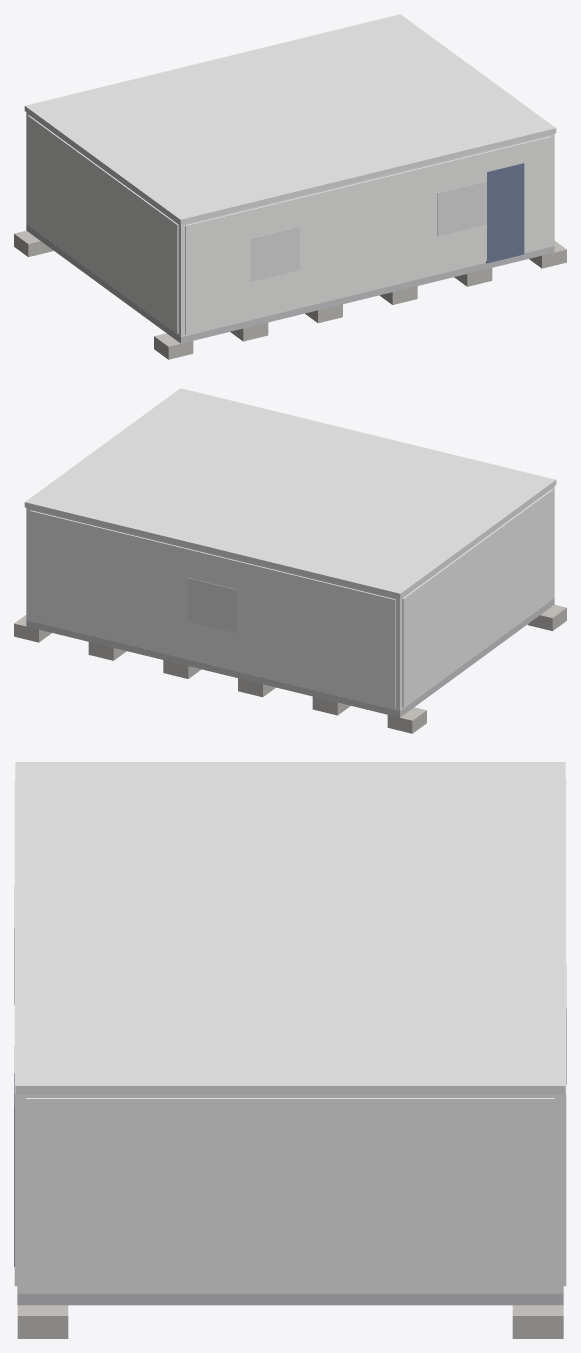
The model's file is Studio-30-SolarPrep-LOD2.glb.
3 renders of one model, top to bottom at view 1: azimuth 30°, elevation 25°; view 2: azimuth 150°, elevation 25°; view 3: azimuth 270°, elevation 25°, orthographic. The views are drawn at different scales.
Parts seen in each view (by area): view 1: RoofMain, ExteriorPanelsStandard, WindowsStandard, BaseFrame, FoundationBlocks, ExteriorShell, EntryDoor; view 2: RoofMain, ExteriorPanelsStandard, BaseFrame, ExteriorShell, FoundationBlocks, WindowsStandard; view 3: RoofMain, ExteriorPanelsStandard, BaseFrame, ExteriorShell, FoundationBlocks.
Part boxes in pixels (x1,y1,x2,y2): RoofMain: (24,14,556,224); ExteriorPanelsStandard: (27,115,550,334); WindowsStandard: (250,181,486,281); BaseFrame: (26,224,554,343); FoundationBlocks: (14,230,566,359); ExteriorShell: (26,112,554,336); EntryDoor: (486,163,524,263); RoofMain: (24,388,556,598); ExteriorPanelsStandard: (30,489,553,708); BaseFrame: (26,598,554,717); ExteriorShell: (26,486,554,710); FoundationBlocks: (14,604,566,733); WindowsStandard: (187,577,237,633); RoofMain: (15,762,565,1094); ExteriorPanelsStandard: (14,779,566,1290); BaseFrame: (17,1293,563,1305); ExteriorShell: (17,1095,563,1293); FoundationBlocks: (17,1305,563,1338).
Bounding box in the file's own units: 9.6 × 3.17 × 6.53.
